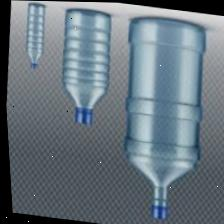plastic: (110, 17, 217, 224), (52, 5, 119, 127), (21, 2, 49, 70)
